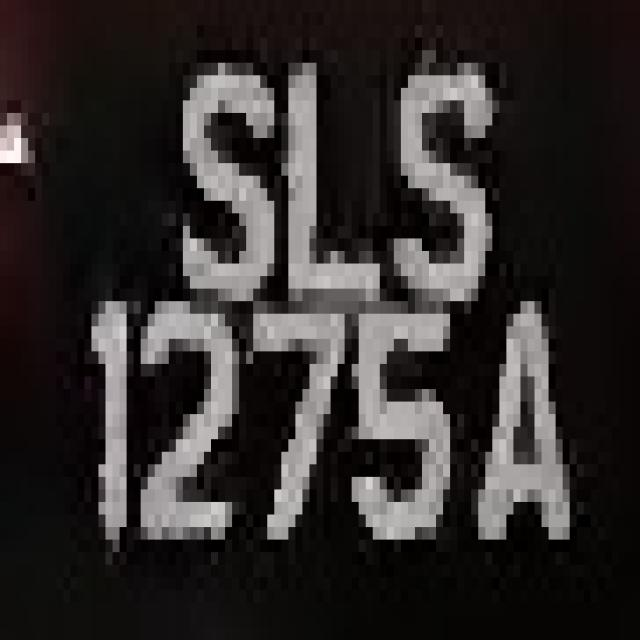1: (77, 264, 134, 552)
2: (148, 264, 260, 628)
5: (338, 288, 443, 564)
7: (232, 264, 345, 577)
A: (464, 264, 598, 628)
L: (267, 13, 394, 301)
S: (373, 63, 520, 339), (162, 50, 281, 301)
